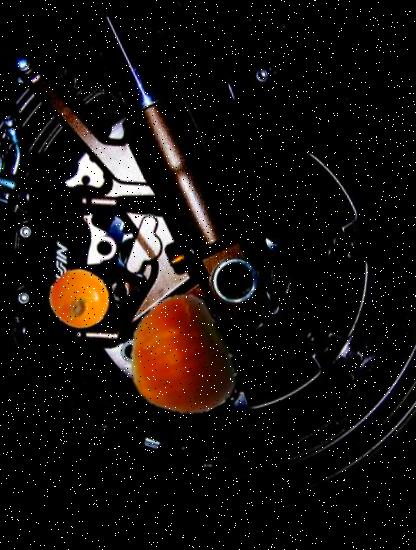Nut: (106, 287, 251, 432)
Physalis: (44, 263, 116, 335)
